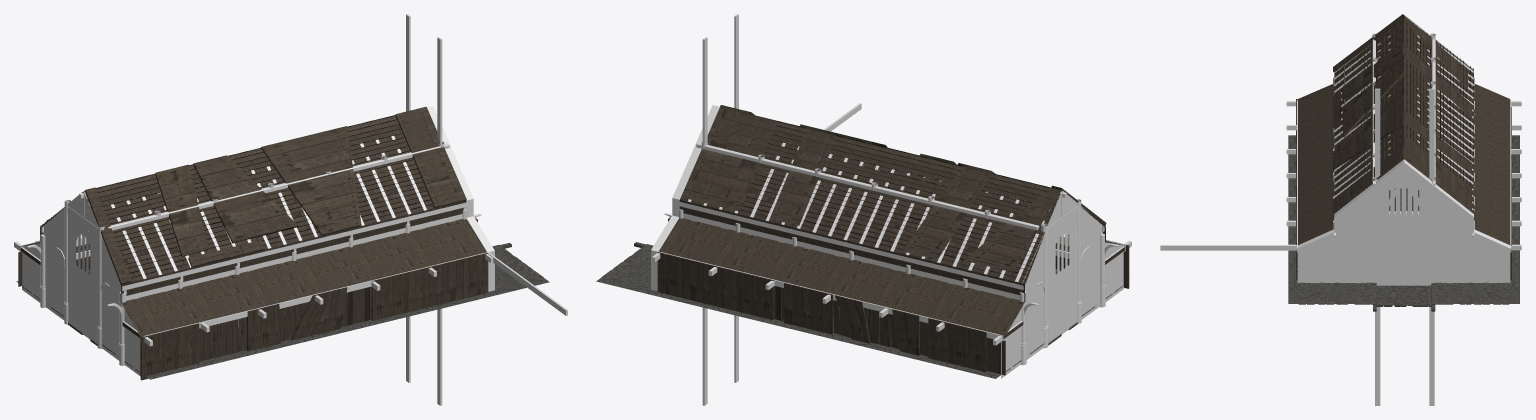
The model's file is sana.fbx.
3 views of the same model, side by side, from view 1: azimuth 30°, elevation 25°; view 2: azimuth 150°, elevation 25°; view 3: azimuth 270°, elevation 25° (orthographic). The views are drawn at different scales.
Parts seen in each view (by area): view 1: Plane.016, Plane.012, Plane.011, Plane.015, Plane.007, Cube.001, Cube.007, Plane.001, Cube.009, Cube, Cylinder.001, Cube.003 (+5 smaller); view 2: Plane.012, Plane.011, Plane.009, Plane.015, Plane.007, Cube.001, Cube, Plane.001, Cube.007, Cube.009, Cube.003, Cylinder.001 (+6 smaller); view 3: Plane.004, Plane.012, Plane.011, Plane.016, Plane.009, Plane.001, Cube.009, Plane.010, Cube, Plane.006, Cylinder.001, Cube.003 (+4 smaller).
Boxes of the visible parts, left/top/right/bottom form: Plane.016: left=85, top=106, right=466, bottom=284; Plane.012: left=19, top=169, right=486, bottom=336; Plane.011: left=40, top=115, right=433, bottom=284; Plane.015: left=35, top=240, right=488, bottom=380; Plane.007: left=22, top=191, right=140, bottom=376; Cube.001: left=20, top=174, right=493, bottom=336; Cube.007: left=18, top=252, right=371, bottom=375; Plane.001: left=16, top=245, right=549, bottom=379; Cube.009: left=378, top=14, right=567, bottom=405; Cube: left=88, top=135, right=426, bottom=279; Cylinder.001: left=14, top=210, right=493, bottom=365; Cube.003: left=76, top=143, right=449, bottom=252; Plane.012: left=659, top=167, right=1126, bottom=335; Plane.011: left=739, top=121, right=1105, bottom=284; Plane.009: left=680, top=107, right=1060, bottom=272; Plane.015: left=657, top=240, right=1129, bottom=371; Plane.007: left=1001, top=190, right=1123, bottom=378; Cube.001: left=652, top=200, right=1125, bottom=341; Cube: left=688, top=139, right=1058, bottom=282; Plane.001: left=596, top=245, right=1112, bottom=378; Cube.007: left=774, top=251, right=1127, bottom=375; Cube.009: left=702, top=14, right=861, bottom=405; Cube.003: left=696, top=142, right=1069, bottom=245; Cylinder.001: left=652, top=186, right=1131, bottom=365; Plane.004: left=1297, top=159, right=1510, bottom=285; Plane.012: left=1297, top=84, right=1510, bottom=244; Plane.011: left=1334, top=20, right=1473, bottom=195; Plane.016: left=1333, top=14, right=1403, bottom=213; Plane.009: left=1404, top=15, right=1473, bottom=213; Plane.001: left=1288, top=135, right=1519, bottom=303; Cube.009: left=1160, top=88, right=1434, bottom=405; Plane.010: left=1298, top=282, right=1509, bottom=304; Cube: left=1334, top=30, right=1473, bottom=210; Plane.006: left=1376, top=188, right=1431, bottom=306; Cylinder.001: left=1286, top=77, right=1521, bottom=250; Cube.003: left=1372, top=39, right=1435, bottom=185.
Bounding box in the file's own units: 2268 × 1862 × 1925.
Materials: 6 (2 with a texture image).
